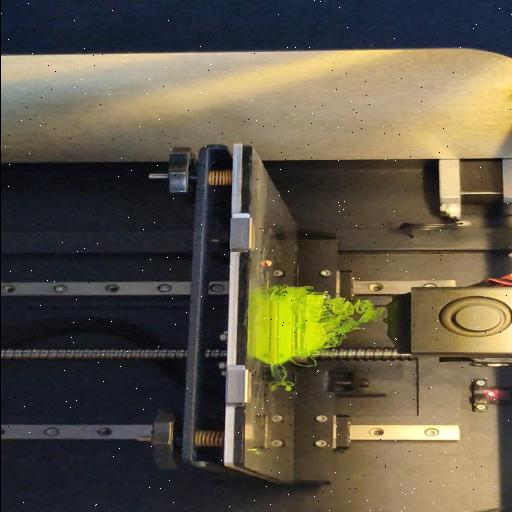spaghetti: (318, 289, 384, 353), (272, 366, 292, 392), (288, 354, 320, 368), (272, 286, 282, 294)
